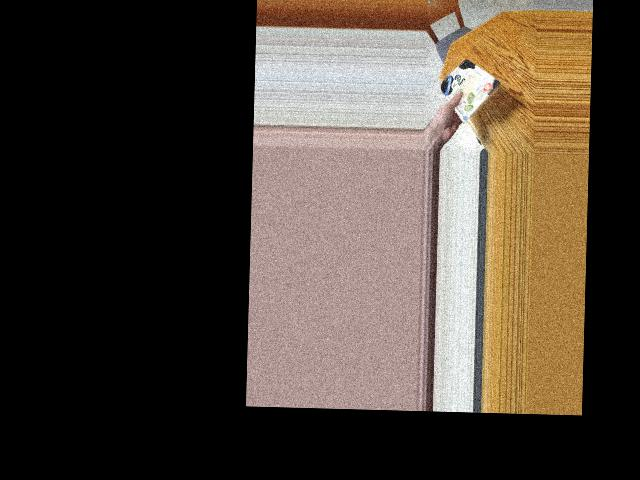cheese: (447, 60, 491, 117)
